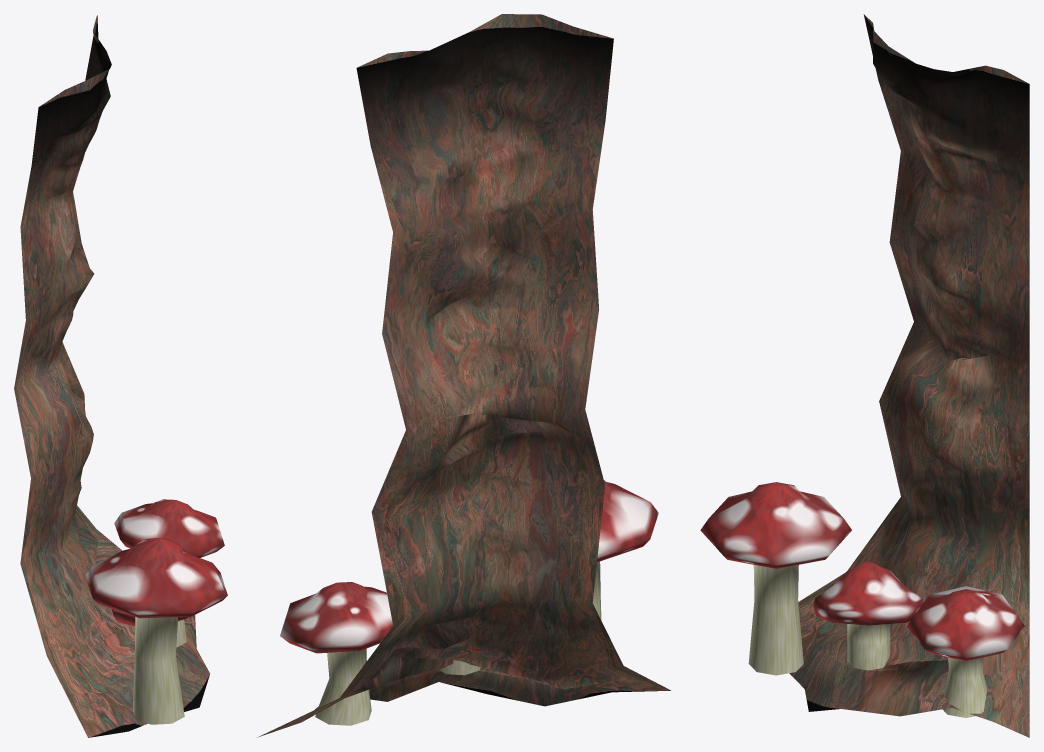
File: cave_shrooms_convex.glb
The picture shows the model from 3 angles, left to right: view 1: azimuth 30°, elevation 25°; view 2: azimuth 150°, elevation 25°; view 3: azimuth 270°, elevation 25°; orthographic projection. The views are drawn at different scales.
Parts seen in each view (by area): view 1: cave_convex_shrooms-col; view 2: cave_convex_shrooms-col; view 3: cave_convex_shrooms-col.
Part boxes in pixels (x1,y1,x2,y2): cave_convex_shrooms-col: [14, 15, 227, 737]; cave_convex_shrooms-col: [257, 14, 670, 737]; cave_convex_shrooms-col: [700, 14, 1029, 737].
Bounding box in the file's own units: 1.64 × 4.24 × 1.97.
Materials: 2 (2 with a texture image).
